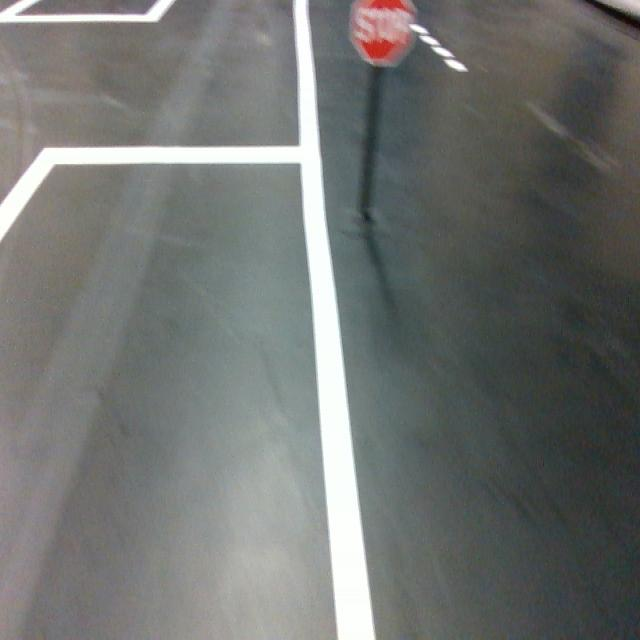stop-sign: (347, 0, 418, 68)
